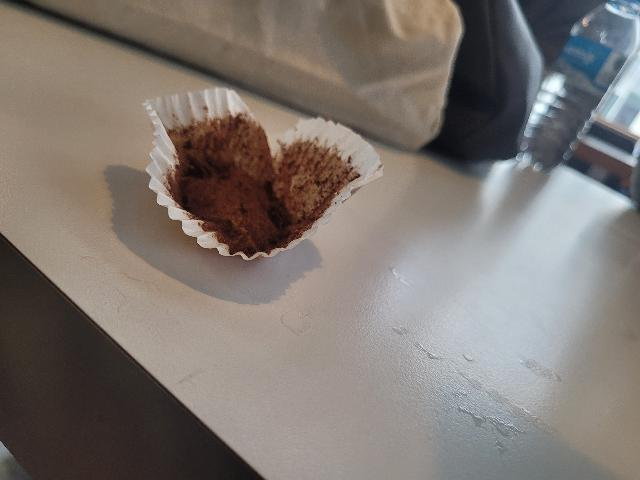Kagit: (146, 87, 381, 262)
